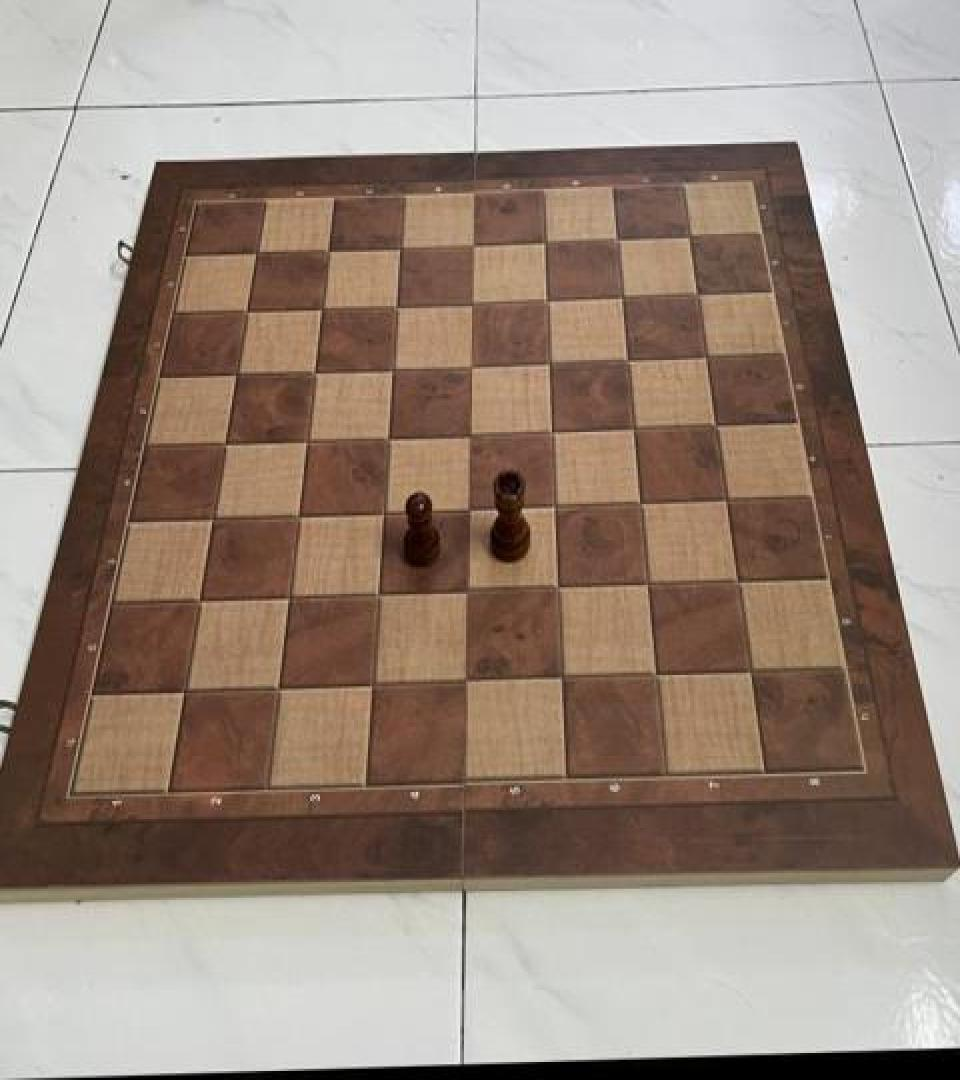xcorner: (672, 219, 706, 258), (231, 291, 265, 330), (372, 418, 406, 457), (600, 222, 634, 260), (528, 224, 562, 262), (456, 226, 490, 264), (384, 228, 418, 266), (312, 232, 346, 270), (241, 234, 275, 272), (680, 277, 714, 315), (605, 279, 639, 317), (530, 282, 564, 320), (455, 285, 489, 323), (380, 287, 414, 325), (306, 289, 340, 327), (689, 340, 723, 378), (611, 342, 645, 380), (533, 344, 567, 382), (454, 346, 488, 384), (376, 350, 410, 388), (298, 352, 332, 390), (221, 354, 255, 392), (699, 408, 733, 446), (617, 411, 651, 449), (535, 413, 569, 451), (454, 415, 488, 453), (291, 421, 325, 459), (209, 423, 243, 461), (709, 483, 743, 521), (623, 485, 657, 523), (538, 487, 572, 525), (452, 490, 486, 528), (367, 493, 401, 531), (282, 495, 316, 533), (197, 498, 231, 536), (721, 564, 755, 602), (631, 567, 665, 605), (541, 570, 575, 608), (451, 573, 485, 611), (362, 575, 396, 613), (273, 577, 307, 615), (183, 580, 217, 618), (733, 655, 767, 693), (639, 657, 673, 695), (544, 660, 578, 698), (450, 663, 484, 701), (356, 665, 390, 703), (262, 668, 296, 706), (168, 670, 202, 708)
